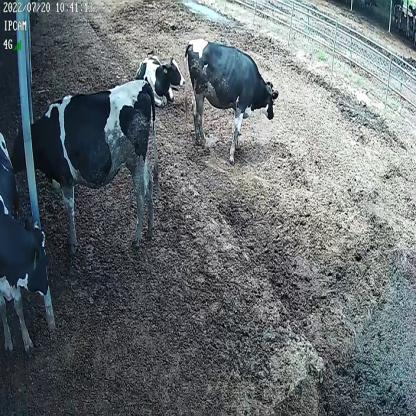cow: (10, 76, 159, 254), (184, 37, 280, 163), (0, 127, 51, 355), (135, 50, 186, 106)
